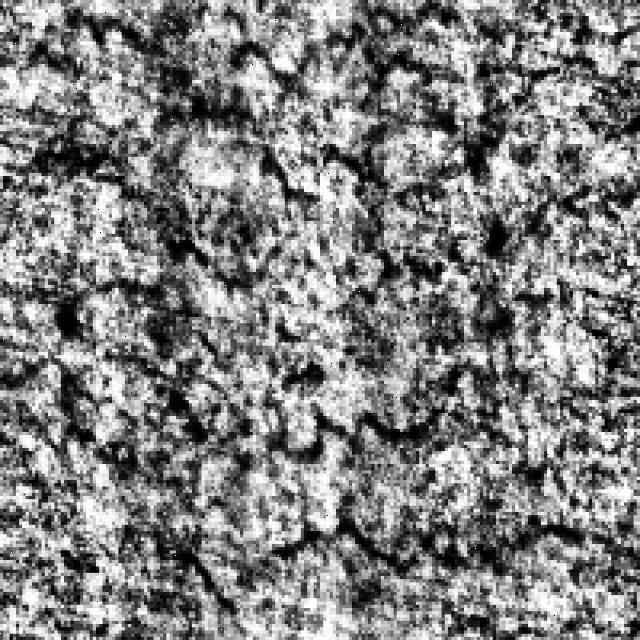Pitted_Surface: (246, 237, 640, 573), (38, 6, 637, 224), (9, 236, 337, 499)
